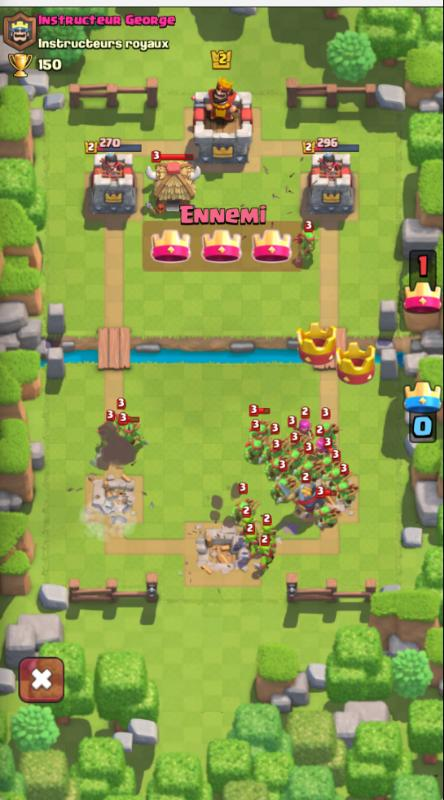archere: (295, 414, 313, 444), (315, 434, 331, 458)
gobelin: (261, 519, 281, 551), (257, 542, 275, 575), (244, 528, 260, 561), (238, 515, 254, 535)
gobelin_lances: (294, 228, 321, 265), (231, 494, 258, 524), (315, 505, 343, 533), (334, 480, 363, 507), (116, 423, 141, 454), (270, 476, 294, 502), (249, 419, 272, 444), (244, 439, 266, 465), (316, 417, 337, 444), (293, 459, 318, 481), (264, 442, 282, 468), (317, 456, 342, 474), (325, 469, 344, 489), (267, 459, 282, 484), (286, 452, 301, 474), (284, 431, 300, 451)
